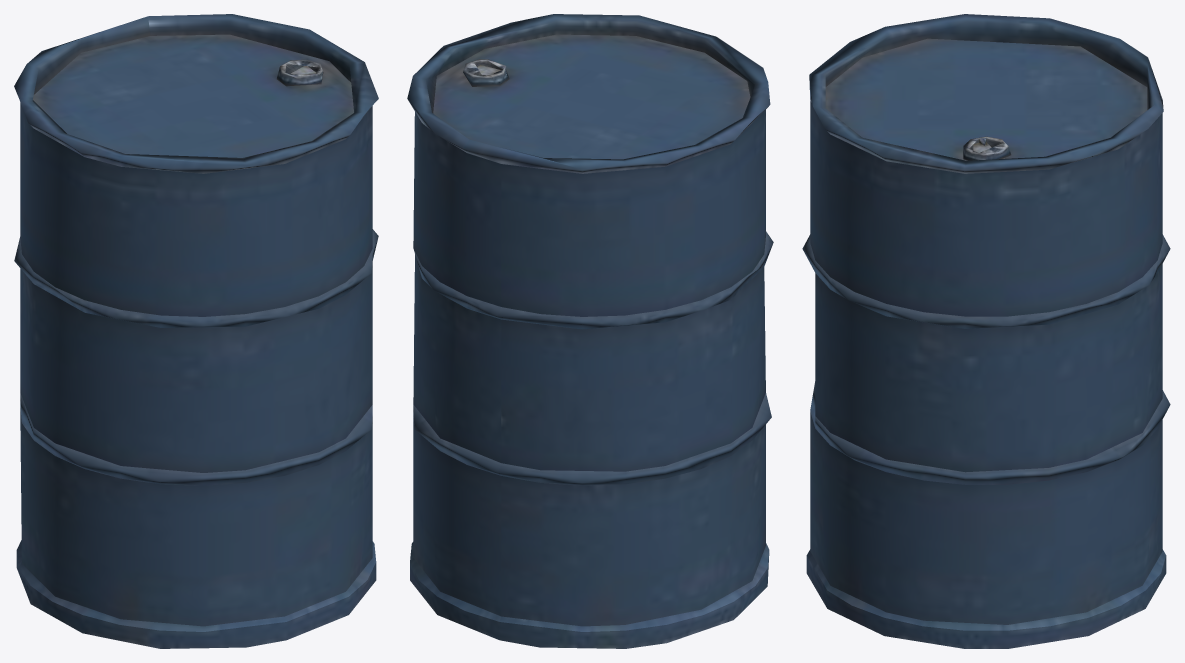
Rendered from barrel_steel.glb.
The picture shows the model from 3 angles, left to right: view 1: azimuth 30°, elevation 25°; view 2: azimuth 150°, elevation 25°; view 3: azimuth 270°, elevation 25°; orthographic projection.
Visible parts, largest first — view 1: barrel_steel; view 2: barrel_steel; view 3: barrel_steel.
Boxes of the visible parts, left/top/right/bottom form: barrel_steel: left=14, top=14, right=378, bottom=648; barrel_steel: left=407, top=14, right=773, bottom=648; barrel_steel: left=802, top=14, right=1170, bottom=648.
Size of the model in its own units: 0.6313 by 0.9305 by 0.6386.
Materials: 1 (1 with a texture image).
